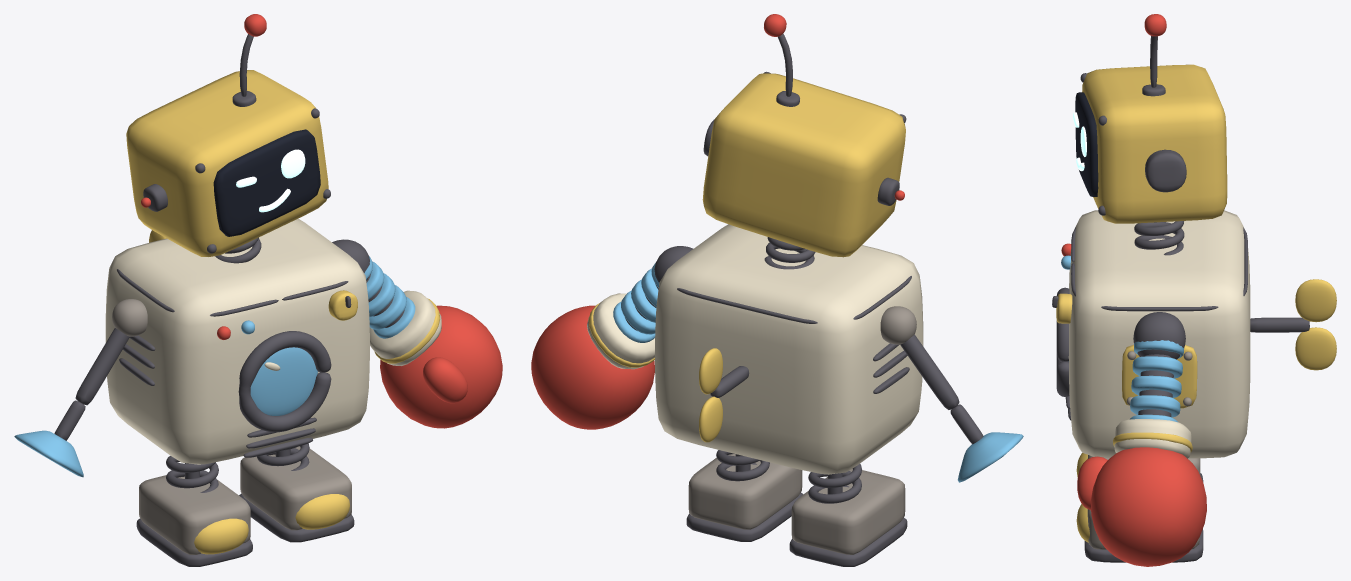
File: bonk3000.glb
3 views of the same model, side by side, from view 1: azimuth 30°, elevation 25°; view 2: azimuth 150°, elevation 25°; view 3: azimuth 270°, elevation 25° (orthographic).
Visible parts, largest first — view 1: BK_Torso, BK_Head, BK_Hand_L, BK_Foot_R, BK_Foot_L, BK_Arm_L, BK_Arm_R, BK_Hand_R, BK_Leg_R, BK_Leg_L; view 2: BK_Torso, BK_Head, BK_Hand_L, BK_Foot_R, BK_Foot_L, BK_Arm_L, BK_Arm_R, BK_Hand_R, BK_Leg_R, BK_Leg_L; view 3: BK_Torso, BK_Head, BK_Hand_L, BK_Arm_L, BK_Foot_L.
Part boxes in pixels (x1,y1,x2,y2): BK_Torso: [105, 218, 369, 464]; BK_Head: [126, 14, 330, 263]; BK_Hand_L: [369, 290, 502, 428]; BK_Foot_R: [136, 475, 252, 566]; BK_Foot_L: [239, 446, 354, 542]; BK_Arm_L: [332, 239, 415, 338]; BK_Arm_R: [75, 299, 147, 405]; BK_Hand_R: [14, 400, 85, 477]; BK_Leg_R: [166, 456, 218, 492]; BK_Leg_L: [257, 443, 309, 470]; BK_Torso: [655, 224, 923, 474]; BK_Head: [702, 14, 906, 269]; BK_Hand_L: [531, 293, 654, 429]; BK_Foot_R: [789, 468, 907, 566]; BK_Foot_L: [686, 454, 803, 541]; BK_Arm_L: [613, 246, 693, 342]; BK_Arm_R: [880, 306, 959, 409]; BK_Hand_R: [950, 404, 1023, 482]; BK_Leg_R: [808, 464, 861, 503]; BK_Leg_L: [716, 450, 769, 481]; BK_Torso: [1052, 210, 1336, 458]; BK_Head: [1073, 14, 1227, 255]; BK_Hand_L: [1077, 419, 1206, 566]; BK_Arm_L: [1130, 312, 1185, 422]; BK_Foot_L: [1076, 504, 1203, 562].
Bounding box in the file's own units: 1.76 × 1.82 × 0.9102.
